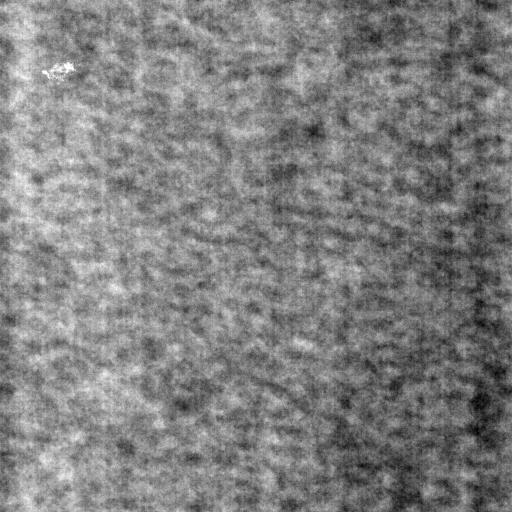DefectTypeA: (41, 58, 74, 84)
